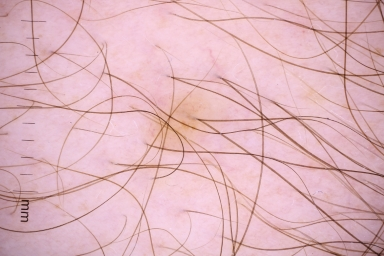nevus: (151, 104, 208, 154)
